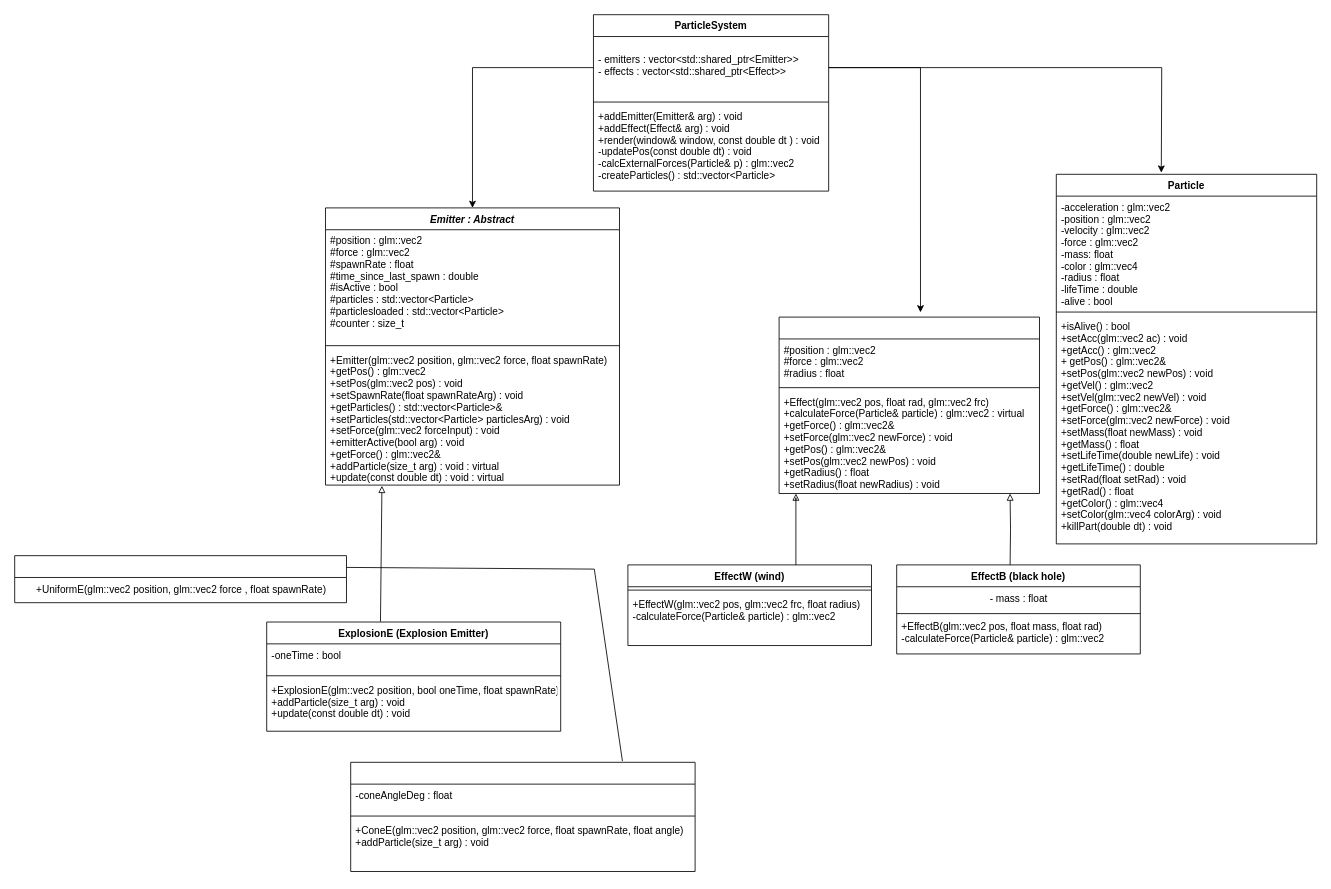
Image size: 1331x889. Some labels were removed from this diagram. The shapes that lost their labels are listed below. From the top down, each one's box as (x1, y1, x2, y2) in pixels, then its label:
(778, 316, 1040, 494): Effect : Abstract
(14, 555, 346, 603): UniformE (Uniform Emitter)
(350, 761, 695, 872): ConeE (Cone Emitter)
